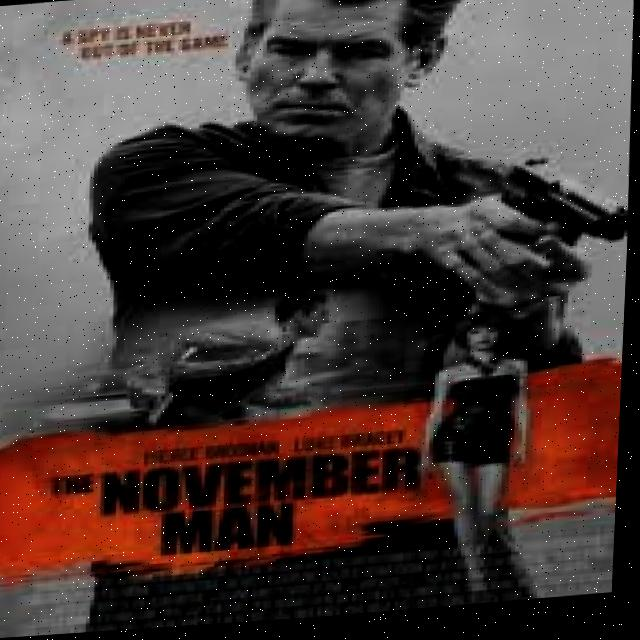pistol: (493, 152, 633, 259)
